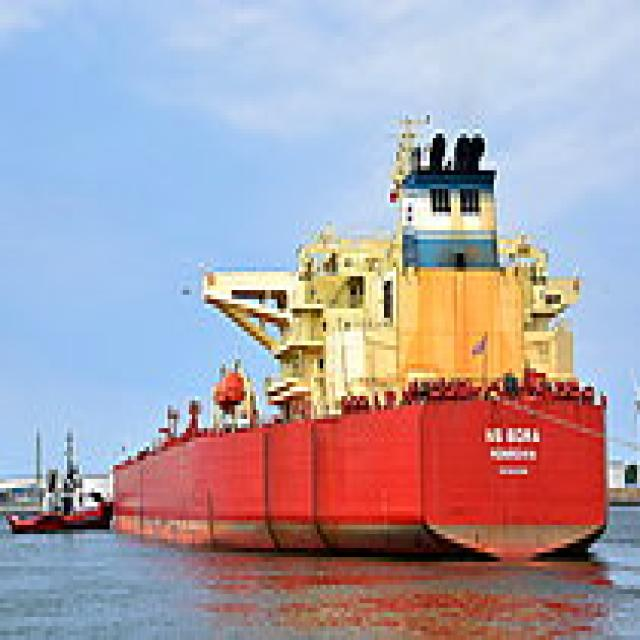Tanker: (100, 101, 610, 566)
